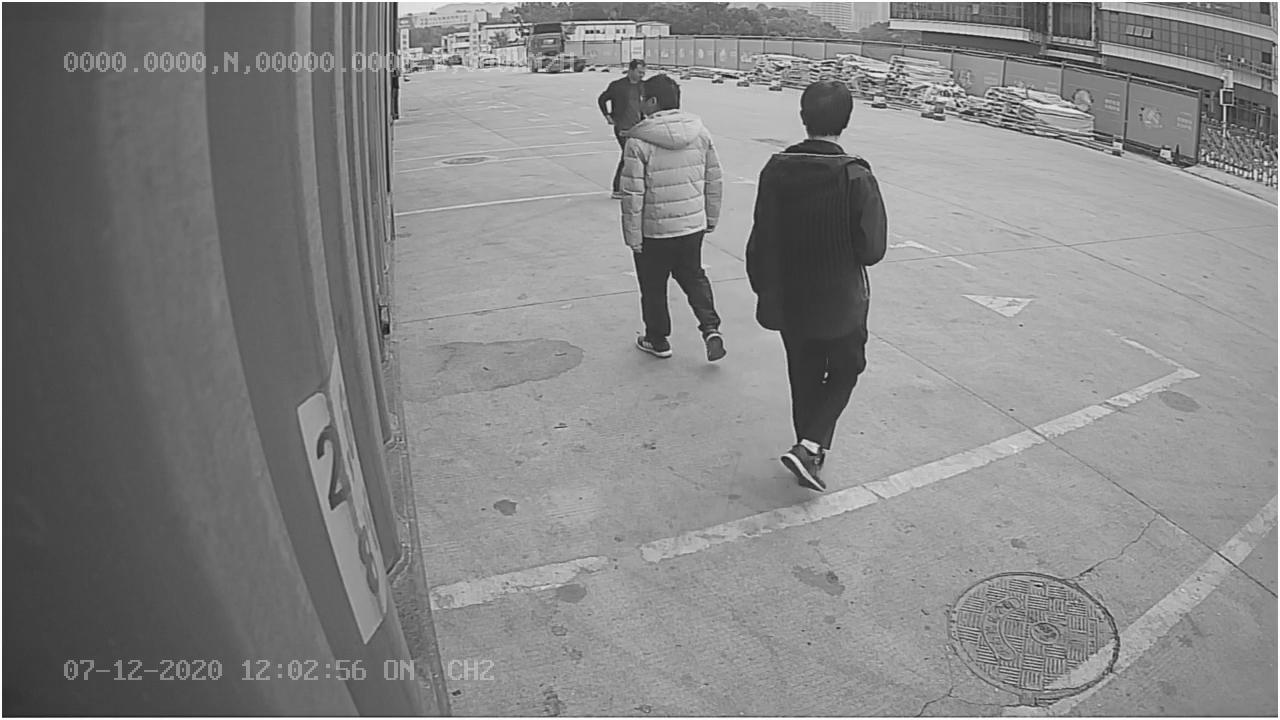person: (744, 76, 892, 491)
